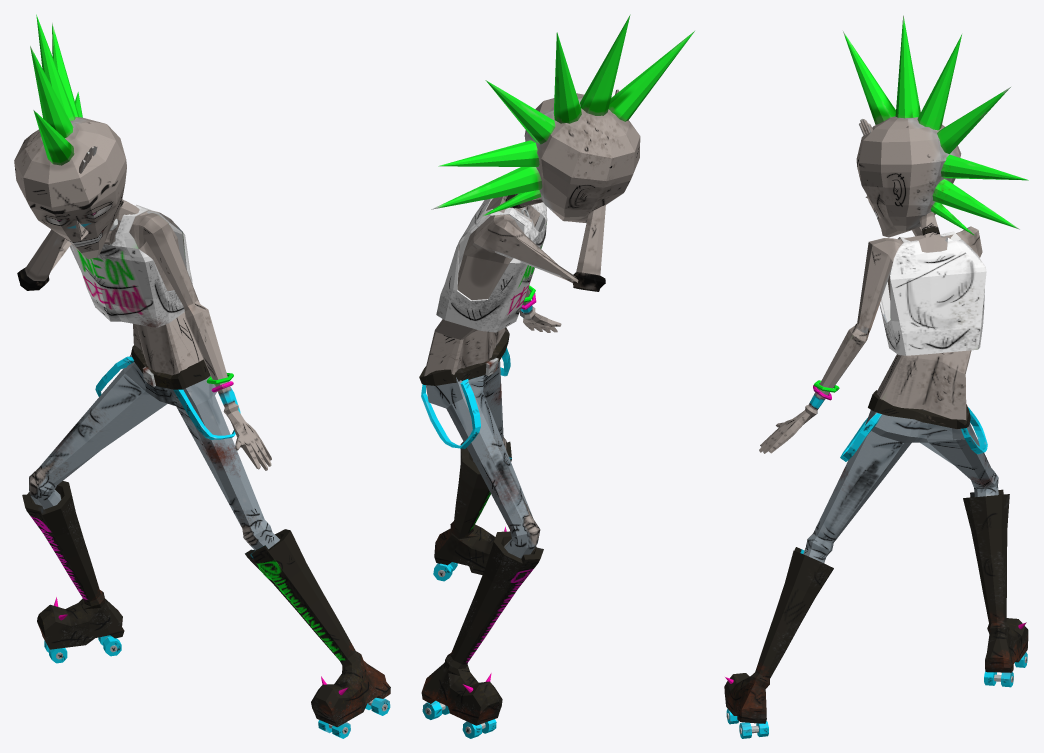
Rendered from punkAnimation_000043.obj.
3 renders of one model, left to right at view 1: azimuth 30°, elevation 25°; view 2: azimuth 150°, elevation 25°; view 3: azimuth 270°, elevation 25°, orthographic. The views are drawn at different scales.
Visible parts, largest first — view 1: Cube.004_Cube.003; view 2: Cube.004_Cube.003; view 3: Cube.004_Cube.003.
Boxes of the visible parts, left/top/right/bottom form: Cube.004_Cube.003: left=14, top=14, right=390, bottom=738; Cube.004_Cube.003: left=419, top=14, right=694, bottom=738; Cube.004_Cube.003: left=724, top=15, right=1028, bottom=738.
Size of the model in its own units: 3.14 by 6.72 by 3.03.
